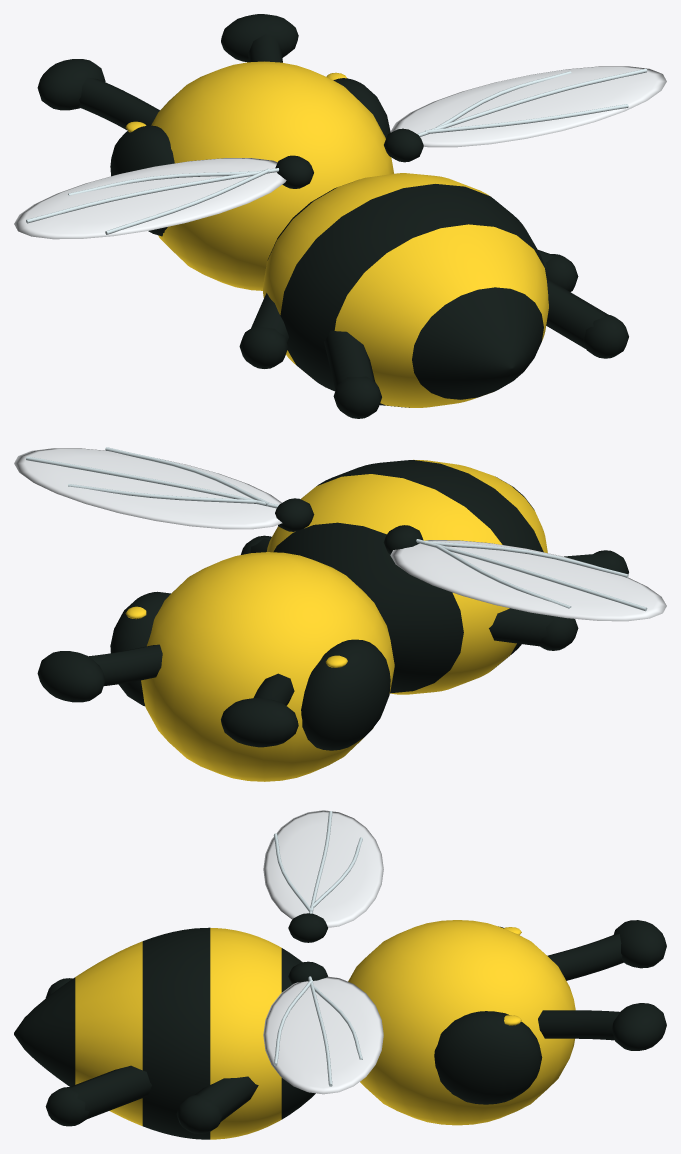
The model's file is Bee_Yellow.fbx.
The picture shows the model from 3 angles, top to bottom: view 1: azimuth 30°, elevation 25°; view 2: azimuth 150°, elevation 25°; view 3: azimuth 270°, elevation 25°; orthographic projection. The views are drawn at different scales.
Parts seen in each view (by area): view 1: Gameplay_Bee_Yellow_Color, Gameplay_Bee_Yellow_Dark, Gameplay_Bee_Yellow_LeftMembrane, Gameplay_Bee_Yellow_RightMembrane, Bee_Yellow_Grip_RightRear, Bee_Yellow_Grip_LeftRear, Bee_Yellow_Grip_LeftFront, Bee_Yellow_Grip_RightFront; view 2: Gameplay_Bee_Yellow_Color, Gameplay_Bee_Yellow_Dark, Gameplay_Bee_Yellow_LeftMembrane, Gameplay_Bee_Yellow_RightMembrane, Bee_Yellow_Grip_LeftFront, Bee_Yellow_Grip_LeftRear; view 3: Gameplay_Bee_Yellow_Color, Gameplay_Bee_Yellow_Dark, Gameplay_Bee_Yellow_RightMembrane, Gameplay_Bee_Yellow_LeftMembrane, Bee_Yellow_Grip_RightRear, Bee_Yellow_Grip_RightFront.
Boxes of the visible parts, x1,y1,x2,y2 form: Gameplay_Bee_Yellow_Color: [125, 61, 548, 407]; Gameplay_Bee_Yellow_Dark: [37, 14, 544, 407]; Gameplay_Bee_Yellow_LeftMembrane: [14, 158, 286, 239]; Gameplay_Bee_Yellow_RightMembrane: [390, 66, 666, 147]; Bee_Yellow_Grip_RightRear: [546, 278, 628, 358]; Bee_Yellow_Grip_LeftRear: [324, 330, 381, 418]; Bee_Yellow_Grip_LeftFront: [239, 293, 288, 368]; Bee_Yellow_Grip_RightFront: [538, 250, 578, 291]; Gameplay_Bee_Yellow_Color: [125, 459, 547, 781]; Gameplay_Bee_Yellow_Dark: [37, 460, 543, 750]; Gameplay_Bee_Yellow_LeftMembrane: [390, 539, 666, 621]; Gameplay_Bee_Yellow_RightMembrane: [14, 447, 282, 529]; Bee_Yellow_Grip_LeftFront: [489, 608, 578, 650]; Bee_Yellow_Grip_LeftRear: [564, 550, 628, 574]; Gameplay_Bee_Yellow_Color: [75, 920, 575, 1139]; Gameplay_Bee_Yellow_Dark: [14, 913, 666, 1139]; Gameplay_Bee_Yellow_RightMembrane: [263, 976, 383, 1094]; Gameplay_Bee_Yellow_LeftMembrane: [263, 810, 383, 927]; Bee_Yellow_Grip_RightRear: [45, 1065, 151, 1126]; Bee_Yellow_Grip_RightFront: [176, 1076, 258, 1133].
Bounding box in the file's own units: 329 × 104 × 320.
